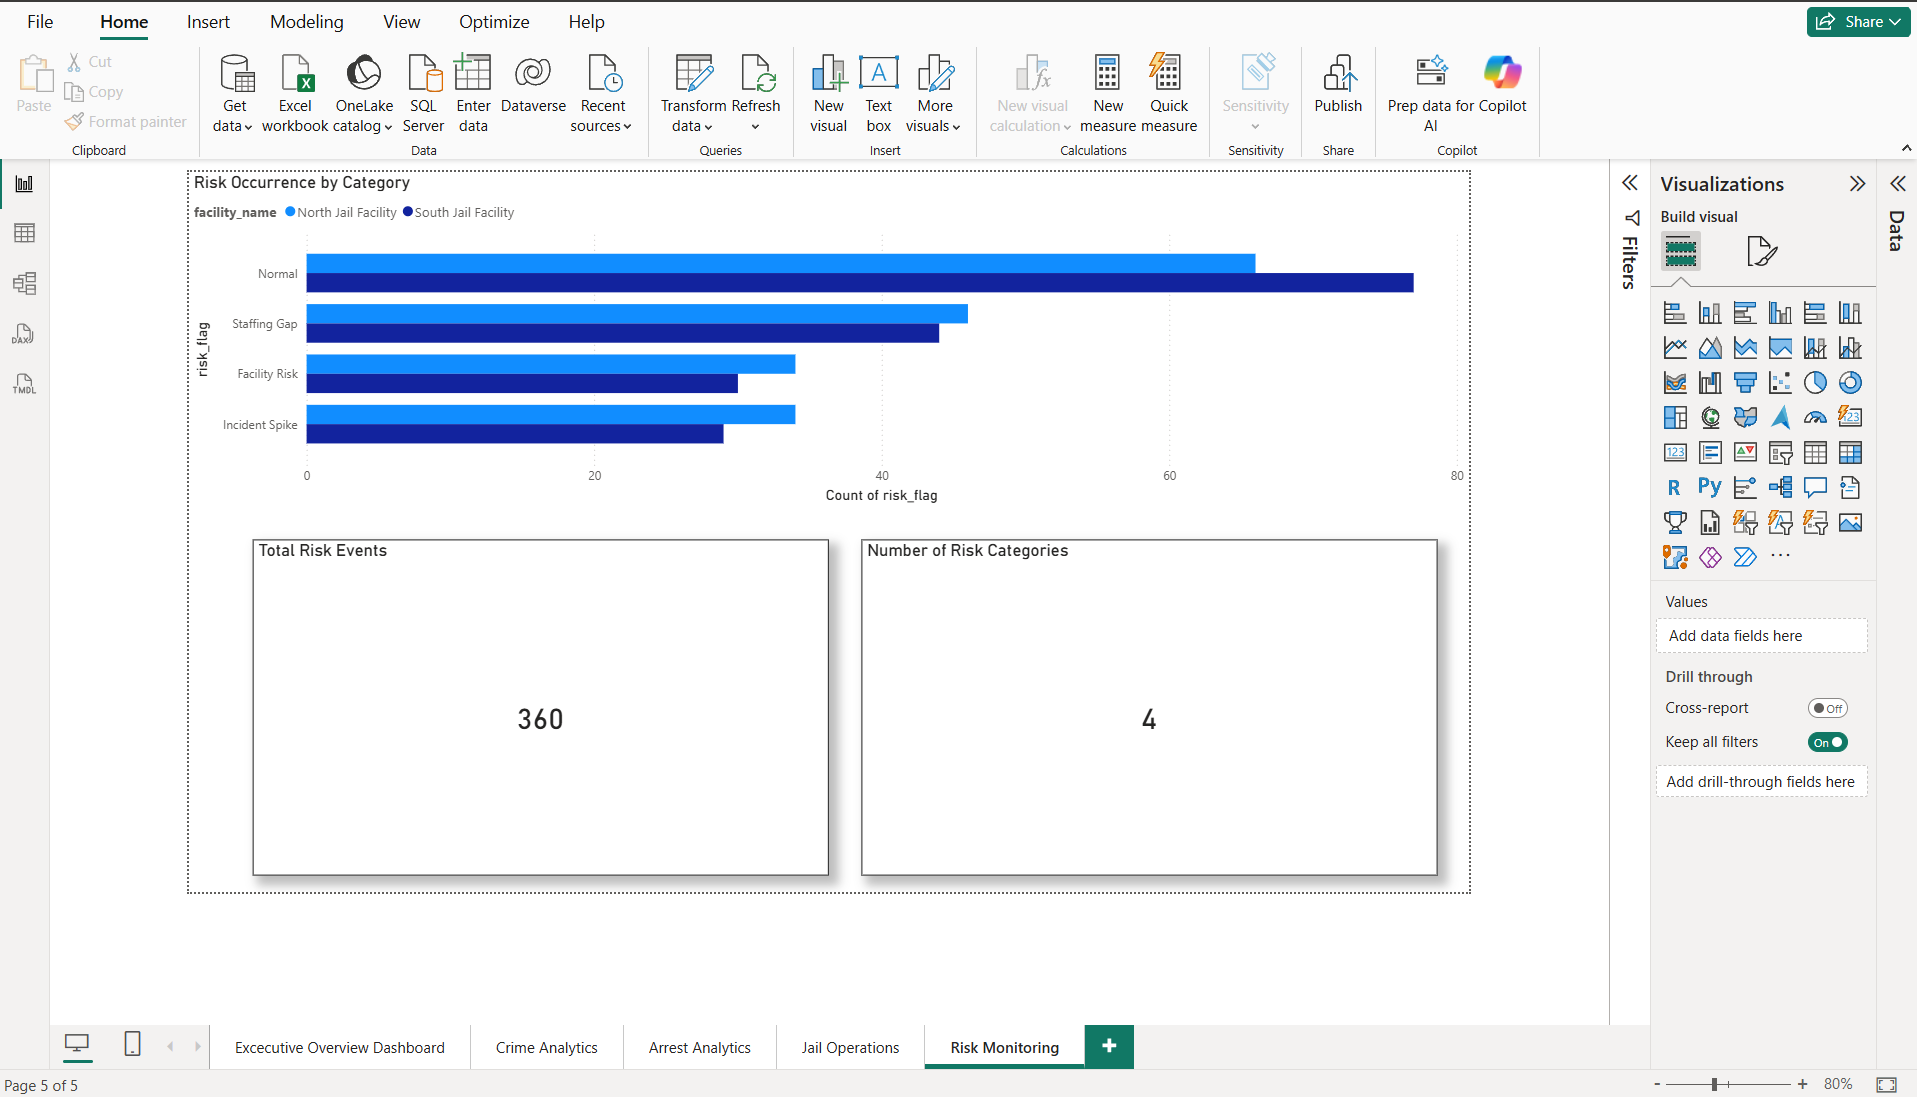

The page's visual inventory and layout, read from the dashboard file:
{"tool":"powerbi","page":{"name":"Risk Monitoring","canvas":[1280,720],"ordinal":4},"visuals":[{"type":"clusteredBarChart","title":"Risk Occurrence by Category","fields":{"Category":["risk_analysis_table.risk_flag"],"Y":["CountNonNull(risk_analysis_table.risk_flag)"],"Series":["risk_analysis_table.facility_name"]},"box":[0,0,1280,336],"z":0},{"type":"card","title":"Total Risk Events","fields":{"Values":["CountNonNull(risk_analysis_table.risk_flag)"]},"box":[64,368,576,336],"z":1000},{"type":"card","title":"Number of Risk Categories","fields":{"Values":["Count(risk_analysis_table.risk_flag)"]},"box":[672,368,576,336],"z":2000}]}

Visuals, with their boxes on the page's 1280x720 design canvas (x1, y1, x2, y2). These are canvas units, not pixel positions in the 1917x1097 screenshot, which may show the page scaled, cropped or inside an application window:
"Risk Occurrence by Category" clusteredBarChart: bbox=(0, 0, 1280, 336)
"Total Risk Events" card: bbox=(64, 368, 640, 704)
"Number of Risk Categories" card: bbox=(672, 368, 1248, 704)
